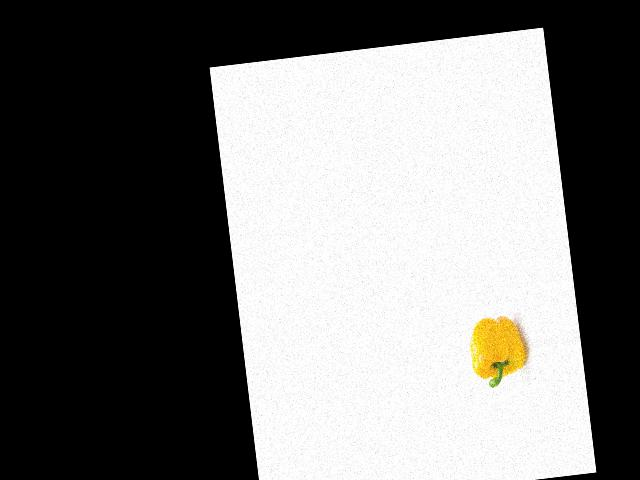bell_pepper: (463, 311, 529, 395)
